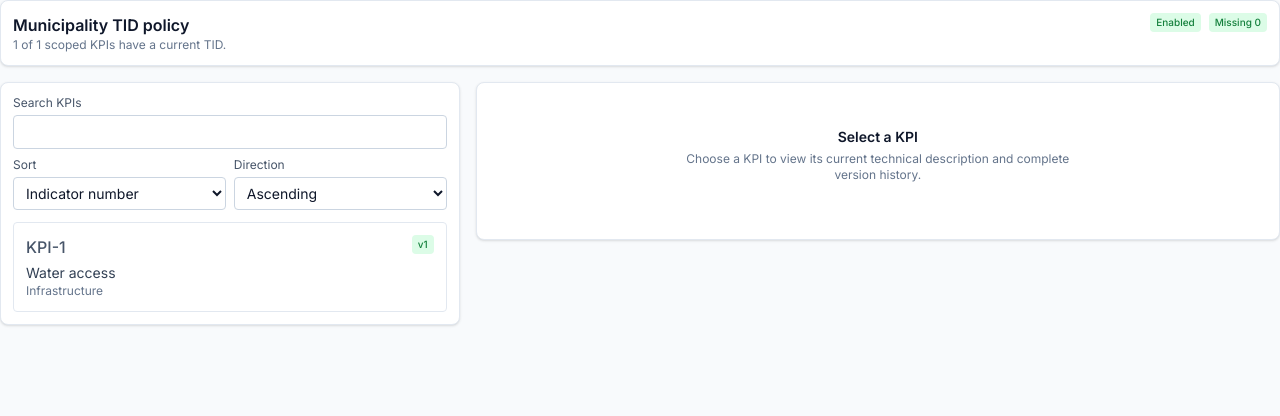
Scenario: TID workspace › keeps operational history visible while hiding authoring controls from read-only users
This screenshot has width=1280, height=416.
What coordinates should you click on to do the following:
click the button "KPI-1 v1 Water access Infrastructure"
I would click on:
 (46, 247)
Its box is left=13, top=222, right=447, bottom=312.
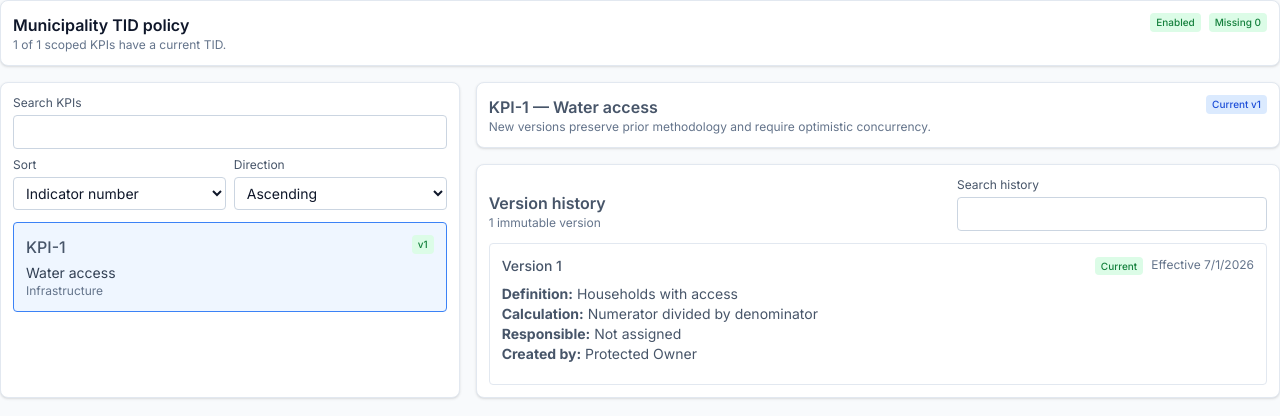
Expected: the text "Version 1" is shown, left=502, top=256, right=562, bottom=276
